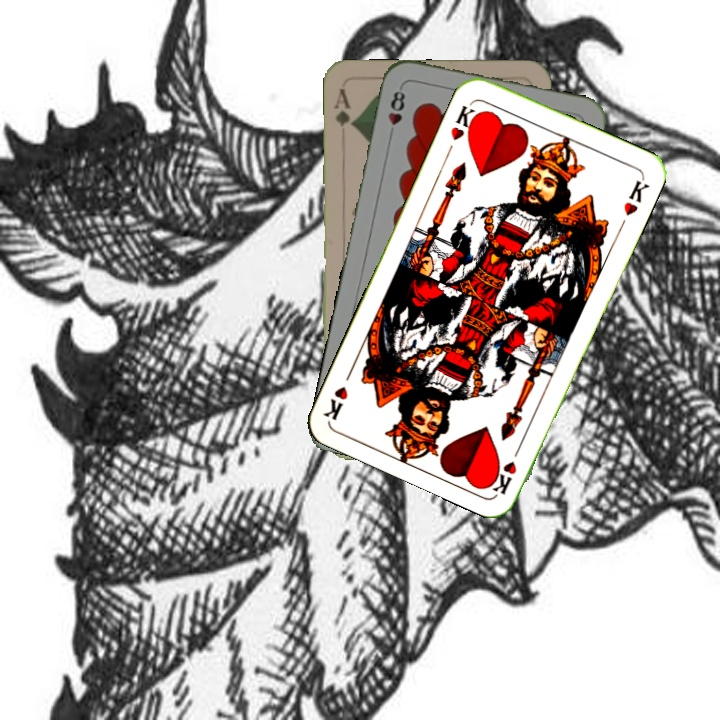GA: (330, 84, 357, 130)
H8: (384, 83, 408, 141)
HK: (488, 439, 525, 497), (446, 99, 483, 144)
